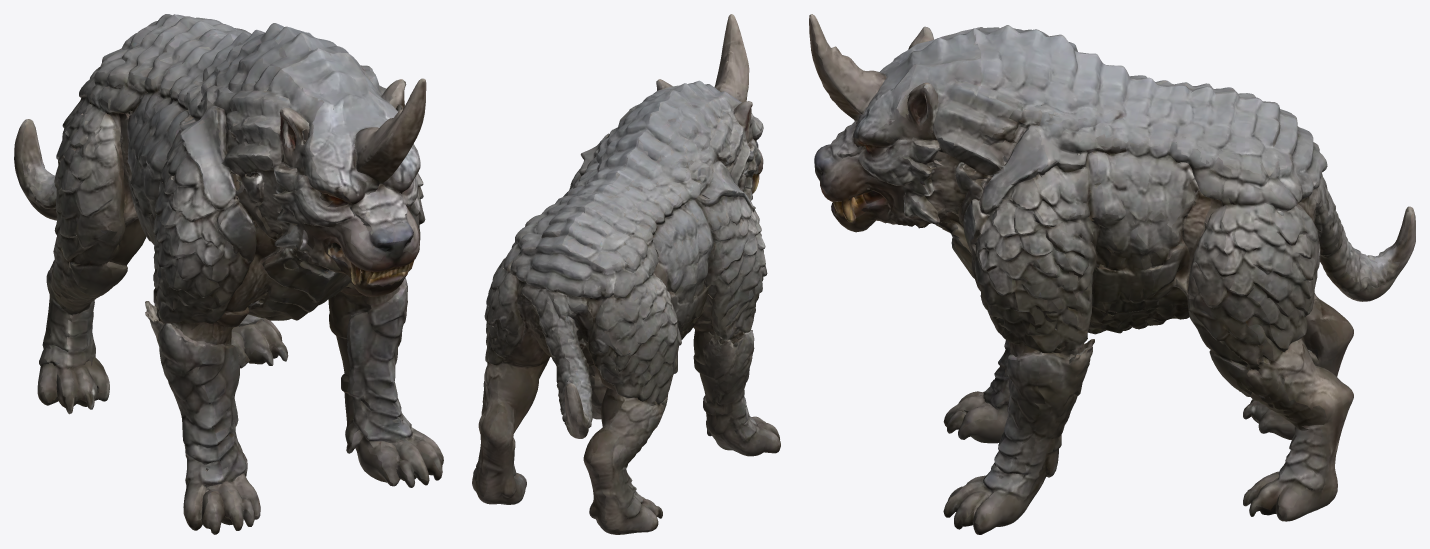
File: lin.glb
The picture shows the model from 3 angles, left to right: view 1: azimuth 30°, elevation 25°; view 2: azimuth 150°, elevation 25°; view 3: azimuth 270°, elevation 25°; orthographic projection. The views are drawn at different scales.
Visible parts, largest first — view 1: geometry_0; view 2: geometry_0; view 3: geometry_0.
Part boxes in pixels (<box>): geometry_0: <box>14,14,443,534</box>; geometry_0: <box>472,14,780,534</box>; geometry_0: <box>809,14,1415,534</box>.
Size of the model in its own units: 1.8 by 3.22 by 3.74.
1 material, 1 textured.
